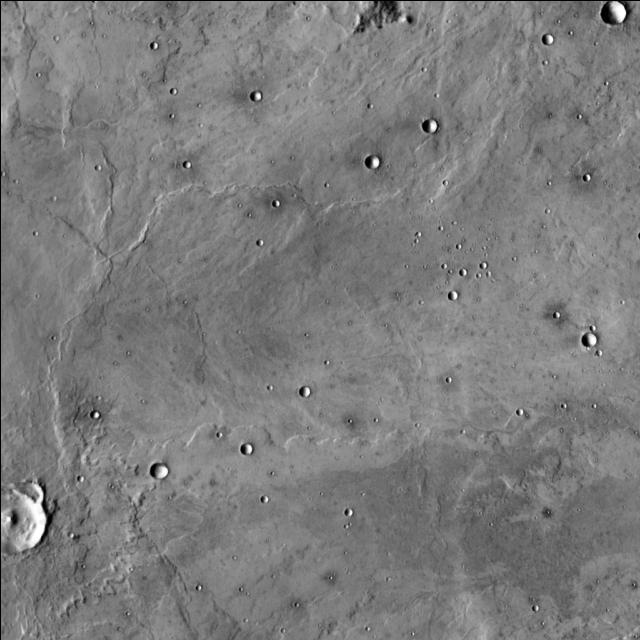crater: (474, 420, 640, 640), (0, 483, 54, 557), (16, 482, 48, 512), (606, 2, 630, 26), (156, 462, 173, 479), (428, 119, 443, 133), (586, 333, 600, 348), (371, 154, 385, 167), (246, 443, 258, 454), (256, 91, 266, 101), (549, 34, 559, 44), (453, 292, 463, 302), (304, 386, 314, 396), (265, 493, 275, 503), (154, 40, 163, 49), (348, 508, 358, 516), (477, 255, 485, 263), (277, 199, 285, 207), (96, 412, 104, 420), (188, 160, 196, 168), (587, 173, 595, 181), (166, 80, 174, 87), (529, 596, 537, 603), (514, 402, 522, 408), (74, 468, 82, 474), (256, 232, 263, 238), (458, 263, 464, 269), (213, 424, 220, 429)
